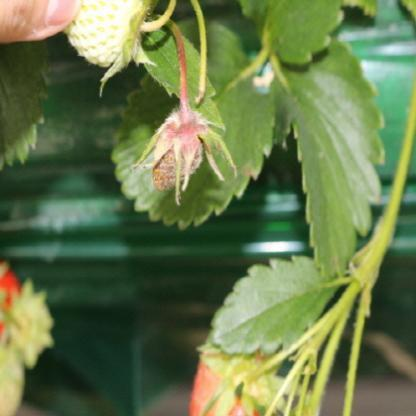Strawberry_Gray_Mold: (132, 97, 236, 206)
